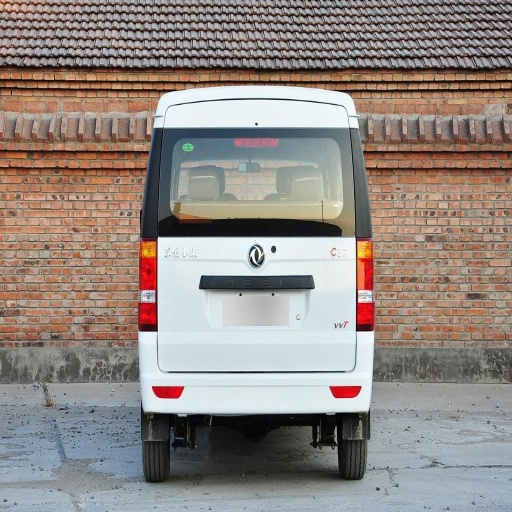back_bumper: (139, 339, 371, 415)
tailgate: (198, 204, 321, 237)
trunk: (159, 220, 356, 371)
